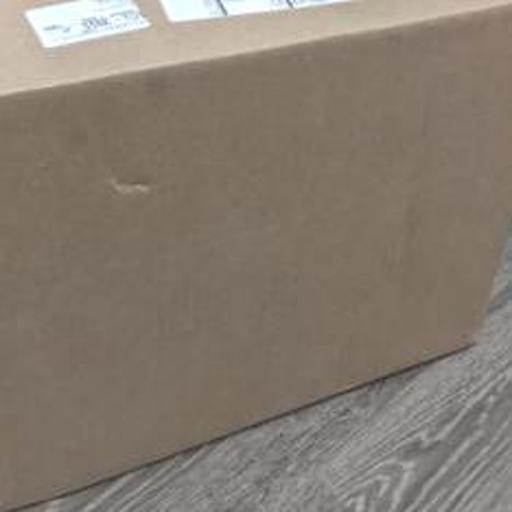Other: (0, 0, 509, 508)
